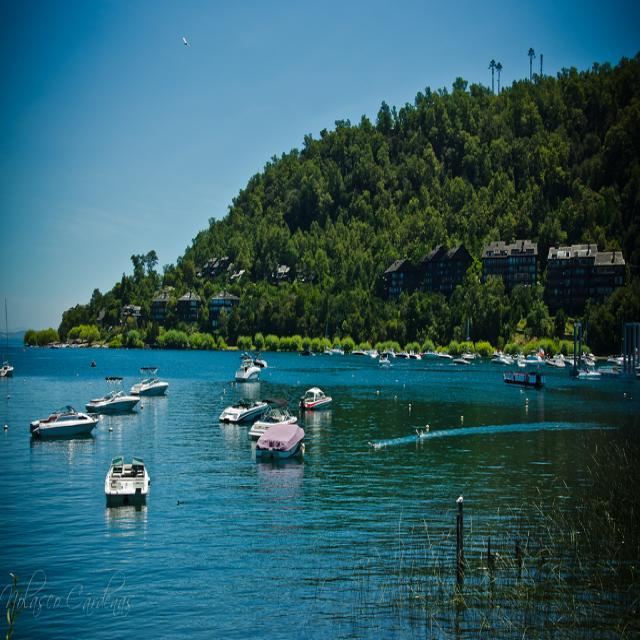Boat: (98, 461, 146, 516), (248, 396, 294, 442), (85, 375, 139, 413), (31, 404, 99, 432), (218, 395, 269, 428), (130, 366, 168, 396), (301, 382, 332, 417), (234, 350, 262, 387), (612, 348, 640, 375), (522, 346, 550, 367), (598, 358, 626, 376), (464, 321, 476, 360), (352, 345, 381, 361), (578, 367, 600, 384), (252, 345, 268, 368), (422, 350, 453, 361), (492, 349, 510, 366), (0, 359, 12, 381), (577, 351, 593, 367), (377, 352, 390, 370), (514, 352, 527, 370), (384, 342, 396, 361), (330, 344, 346, 358), (566, 351, 576, 367), (456, 354, 469, 366), (552, 354, 563, 368), (399, 348, 411, 360), (412, 350, 422, 362), (586, 351, 594, 360), (52, 344, 61, 351), (73, 343, 84, 348), (92, 342, 100, 348), (64, 342, 70, 348), (91, 362, 93, 366)
